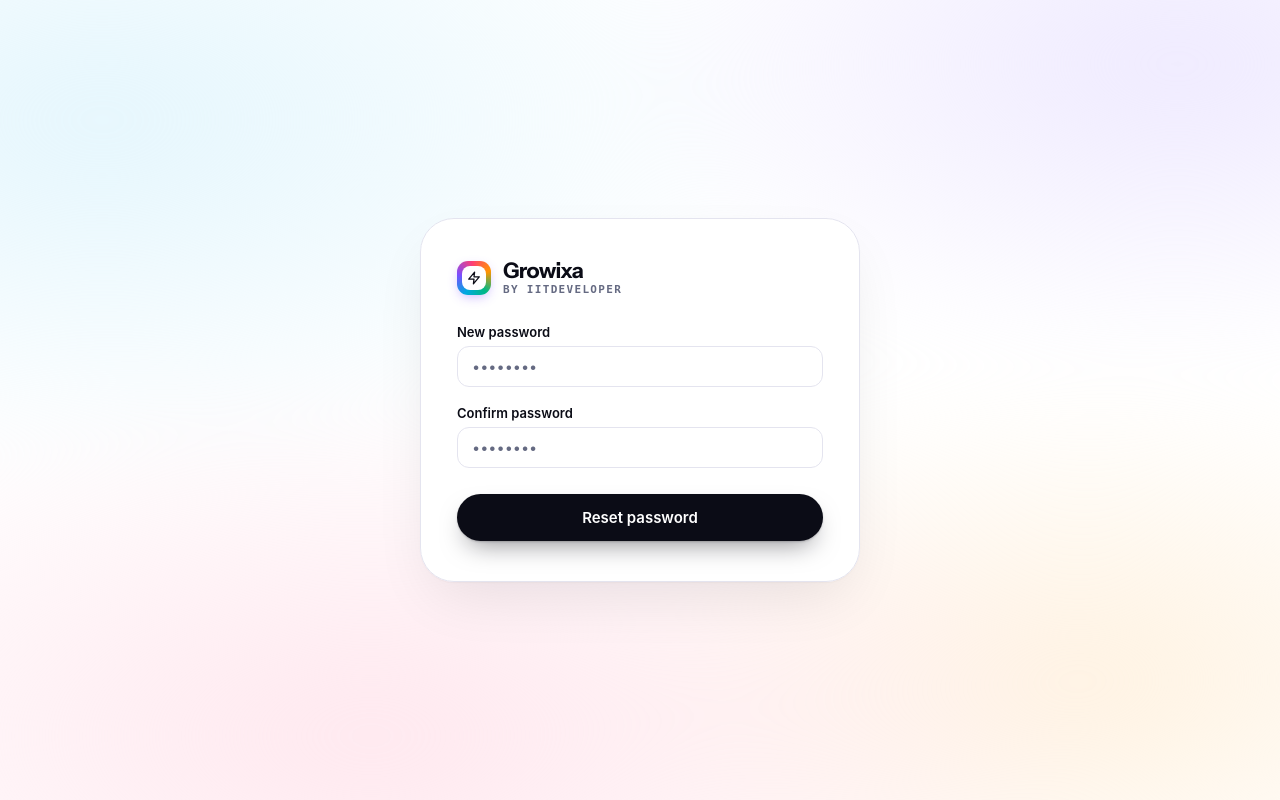
Test: ResetPasswordPage › submits a matching new password and shows success
The image size is (1280, 800).
In the password field labelled "New password": (640, 366) [457,346,823,387], type "New-Password-456!"
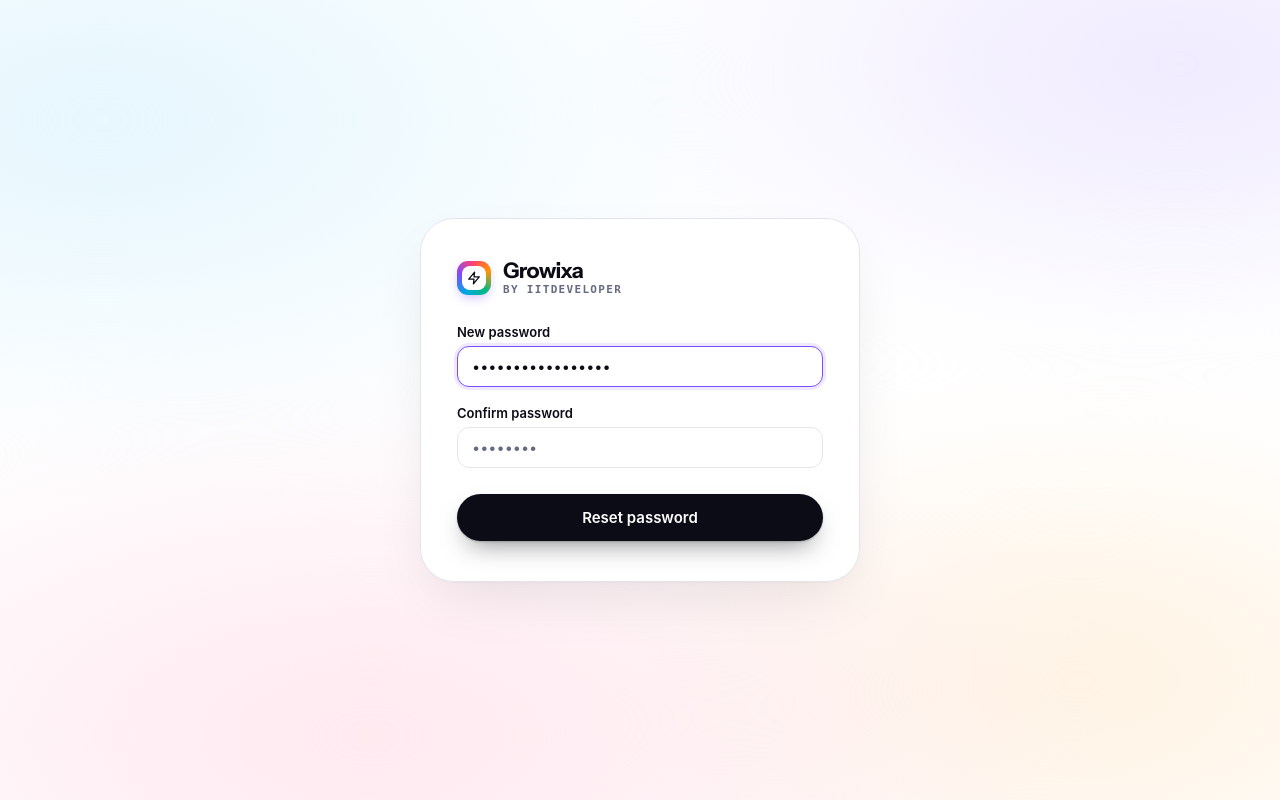
In the password field labelled "Confirm password": (640, 447) [457,427,823,468], type "New-Password-456!"
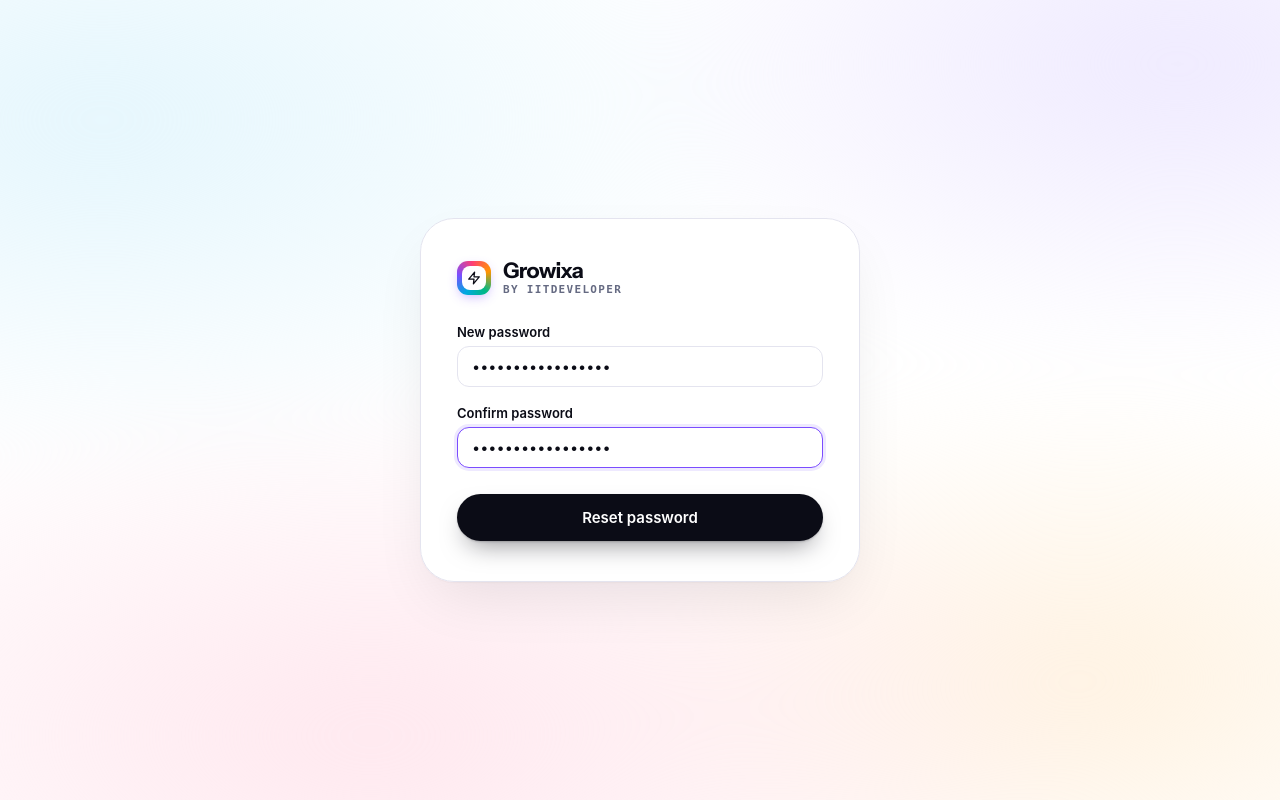
Click the button "Reset password": (640, 517) [457,494,823,541]
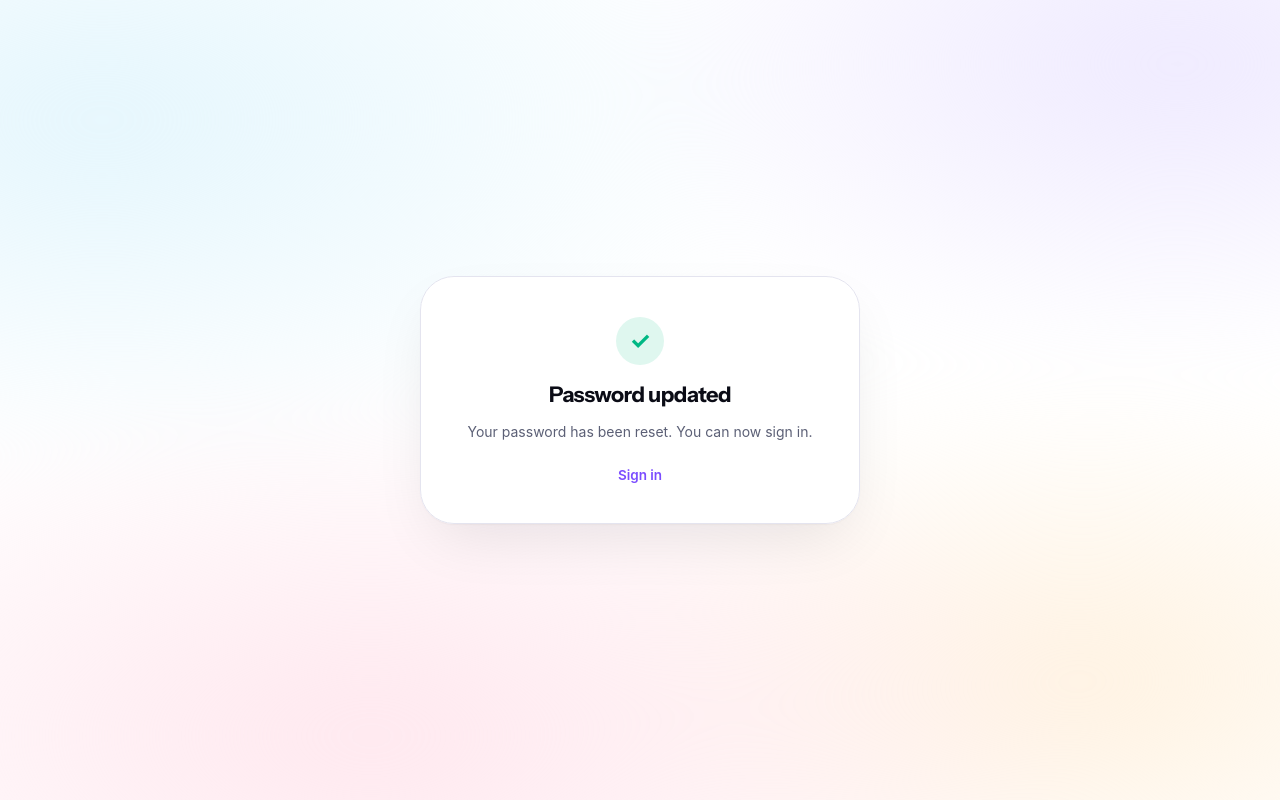
Expected: the heading "Password updated" is shown, [549,381,731,407]
